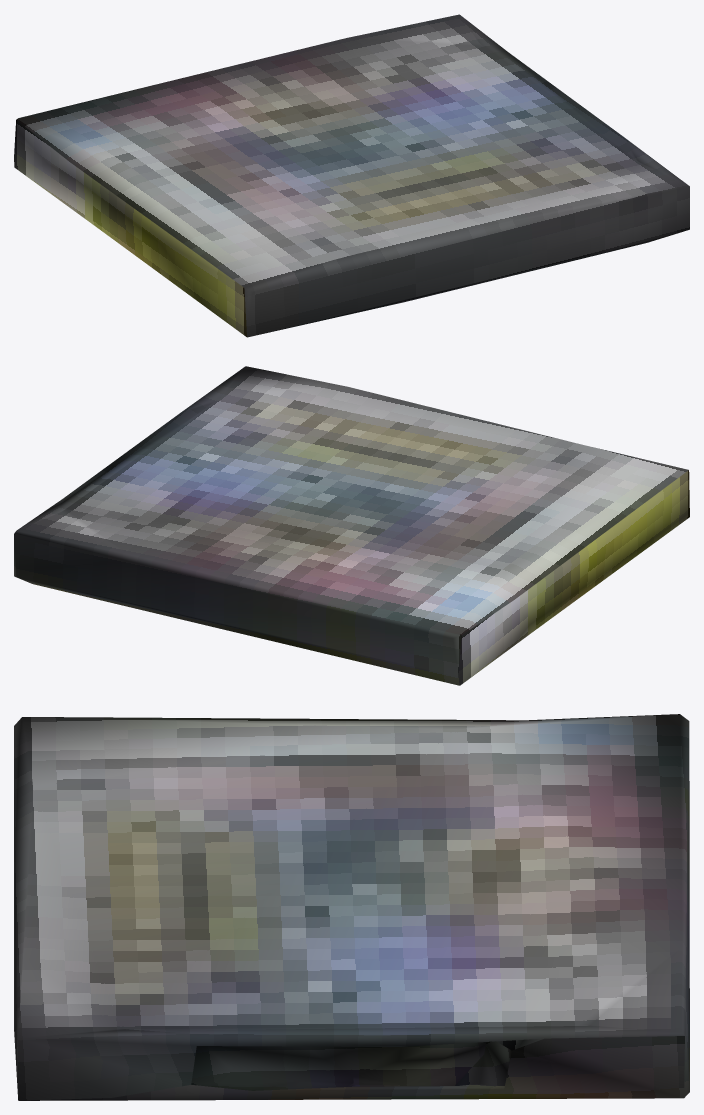
Rendered from Pokmon_Conquest_Nintendo_DS_Game-low.glb.
3 views of the same model, one above another, from view 1: azimuth 30°, elevation 25°; view 2: azimuth 150°, elevation 25°; view 3: azimuth 270°, elevation 25° (orthographic). The views are drawn at different scales.
Parts seen in each view (by area): view 1: Pokmon_Conquest_Nintendo_DS_Game; view 2: Pokmon_Conquest_Nintendo_DS_Game; view 3: Pokmon_Conquest_Nintendo_DS_Game.
Part boxes in pixels (x1=…): Pokmon_Conquest_Nintendo_DS_Game: x1=14, y1=14, x2=689, y2=337; Pokmon_Conquest_Nintendo_DS_Game: x1=14, y1=366, x2=689, y2=685; Pokmon_Conquest_Nintendo_DS_Game: x1=14, y1=714, x2=689, y2=1100.
Size of the model in its own units: 0.1369 by 0.0172 by 0.1239.
Materials: 1 (1 with a texture image).
